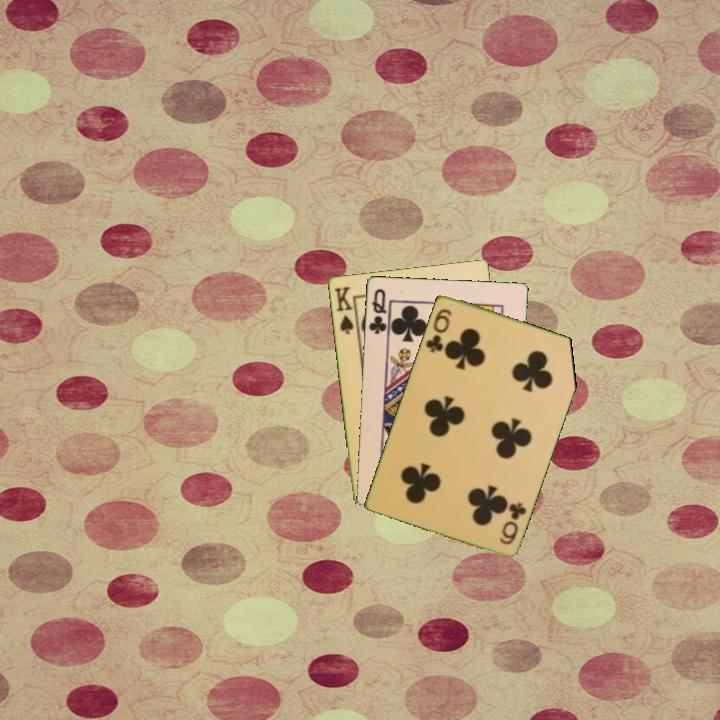6c: (496, 498, 529, 548), (422, 305, 454, 355)
Ks: (330, 282, 356, 337)
Qc: (365, 285, 391, 339)
